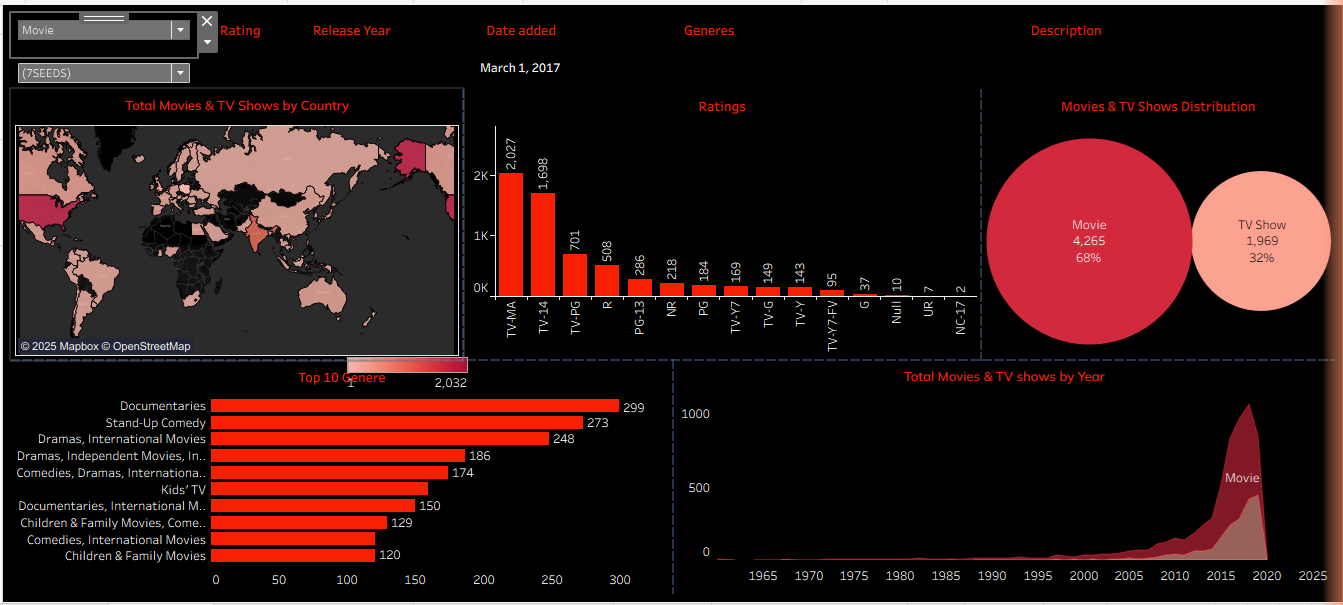

What the dashboard file says about the page in this screenshot:
{"tool":"tableau","page":{"name":"Dashboard 1","canvas":[1000,1000],"units":"permille","ordinal":0},"visuals":[{"type":"filter","title":"Description","param":"[federated.0f0rcgc0iau49w1dl25yp1xx8nmy].[none:type:nk]","box":[6.9,13.4,138.4,73.6]},{"type":"worksheet","title":"Indivisual Rating","mark":"Automatic","box":[145.3,13.4,64.1,147.3]},{"type":"worksheet","title":"Release Year","mark":"Automatic","box":[209.4,13.4,102,147.3]},{"type":"worksheet","title":"Date added","mark":"Automatic","box":[311.4,13.4,150.8,147.3]},{"type":"worksheet","title":"Generes","mark":"Automatic","box":[462.2,13.4,129.9,147.3]},{"type":"worksheet","title":"Description","mark":"Automatic","box":[592.1,13.4,401,147.3]},{"type":"filter","title":"Description","param":"[federated.0f0rcgc0iau49w1dl25yp1xx8nmy].[none:title:nk]","box":[6.9,87,138.4,73.7]},{"type":"worksheet","title":"Total Movies & TV Shows by Country","mark":"Multipolygon","box":[6.9,160.7,380.4,505.1]},{"type":"worksheet","title":"Ratings","mark":"Automatic","rows":["show_id"],"cols":["rating"],"box":[387.4,160.7,341.9,505.1]},{"type":"worksheet","title":"Movies & TV Shows Distribution","mark":"Circle","box":[729.3,160.7,263.8,505.1]},{"type":"legend","title":"Total Movies & TV Shows by Country","param":"[federated.0f0rcgc0iau49w1dl25yp1xx8nmy].[ctd:show_id:qk]","box":[253.7,583.5,96.3,68.2]},{"type":"worksheet","title":"Top 10 Geners","mark":"Automatic","rows":["listed_in"],"cols":["show_id"],"box":[6.9,665.9,492.9,320.7]},{"type":"worksheet","title":"Total Movies & TV shows by Year","mark":"Area","rows":["show_id"],"cols":["release_year"],"box":[499.9,665.9,493.2,320.7]}]}

Visuals, with their boxes on the dashboard's canvas, which has no fixed pixel size, in thousandths of its width and height (x1, y1, x2, y2). These are canvas units, not pixel positions in the 1343x605 screenshot, which may show the page scaled, cropped or inside an application window:
"Description" filter: <region>7, 13, 145, 87</region>
"Indivisual Rating" worksheet: <region>145, 13, 209, 161</region>
"Release Year" worksheet: <region>209, 13, 311, 161</region>
"Date added" worksheet: <region>311, 13, 462, 161</region>
"Generes" worksheet: <region>462, 13, 592, 161</region>
"Description" worksheet: <region>592, 13, 993, 161</region>
"Description" filter: <region>7, 87, 145, 161</region>
"Total Movies & TV Shows by Country" worksheet (Multipolygon marks): <region>7, 161, 387, 666</region>
"Ratings" worksheet: <region>387, 161, 729, 666</region>
"Movies & TV Shows Distribution" worksheet (Circle marks): <region>729, 161, 993, 666</region>
"Total Movies & TV Shows by Country" legend: <region>254, 584, 350, 652</region>
"Top 10 Geners" worksheet: <region>7, 666, 500, 987</region>
"Total Movies & TV shows by Year" worksheet (Area marks): <region>500, 666, 993, 987</region>
